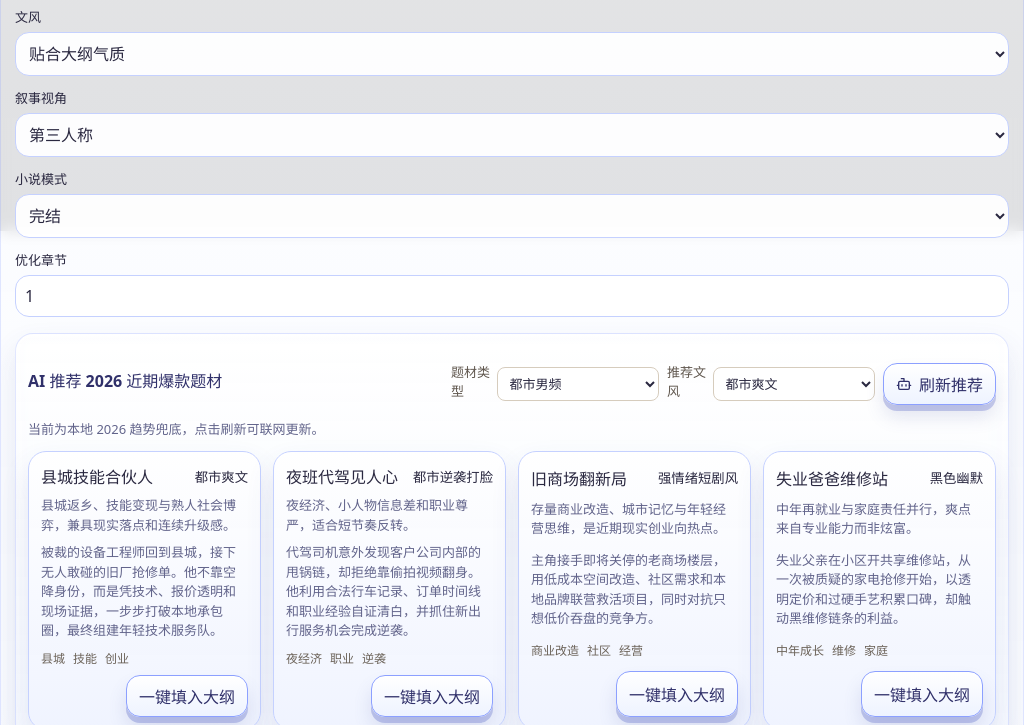
it: Workspace progress › does not let an older online refresh overwrite cards after the genre changes
(page scrolled)
Click the button "刷新推荐": [940, 384] box x1=883 y1=363 x2=996 y2=405
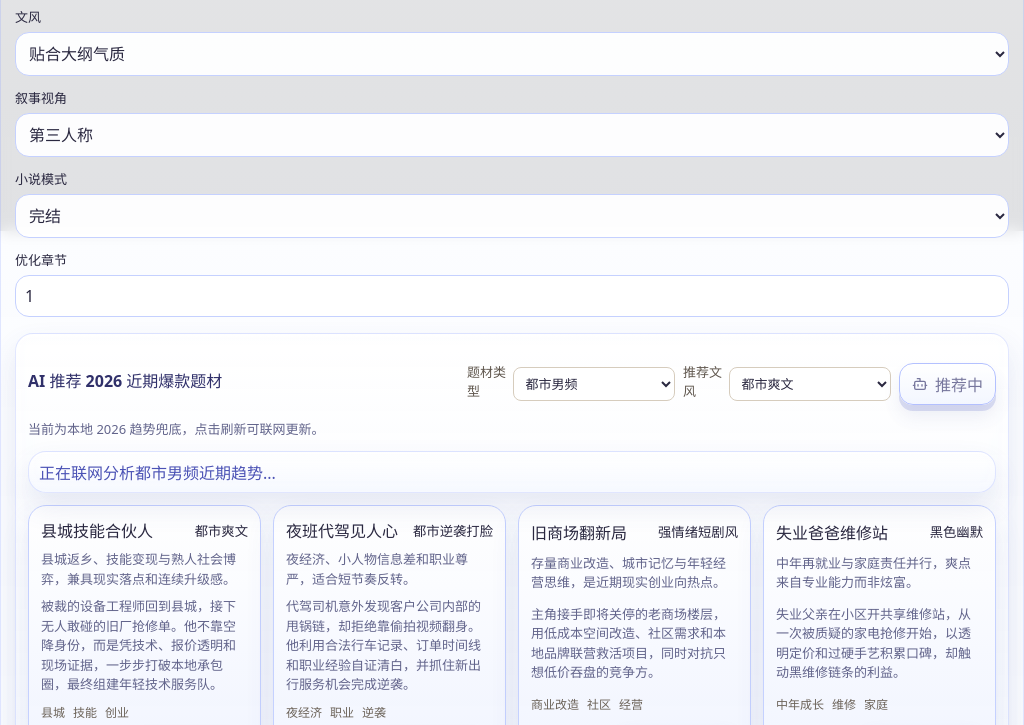
Select "古风家业" in the dropdown labelled "题材类型": [594, 384] box x1=512 y1=367 x2=675 y2=401
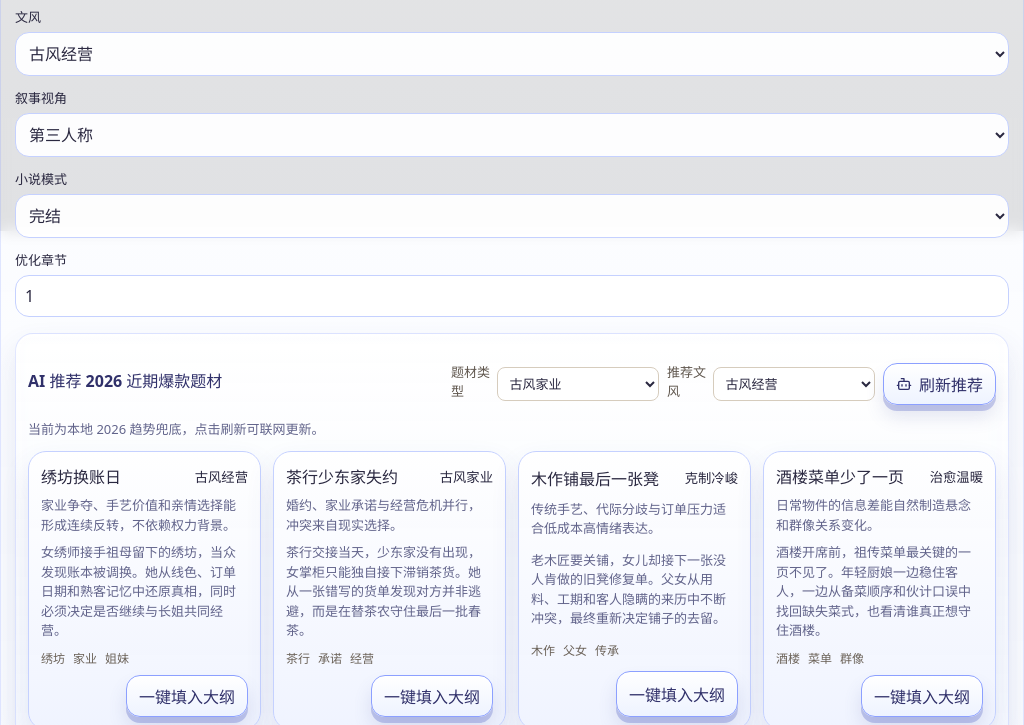
Expected: the text "绣坊换账日" is shown, x1=41 y1=464 x2=121 y2=488
